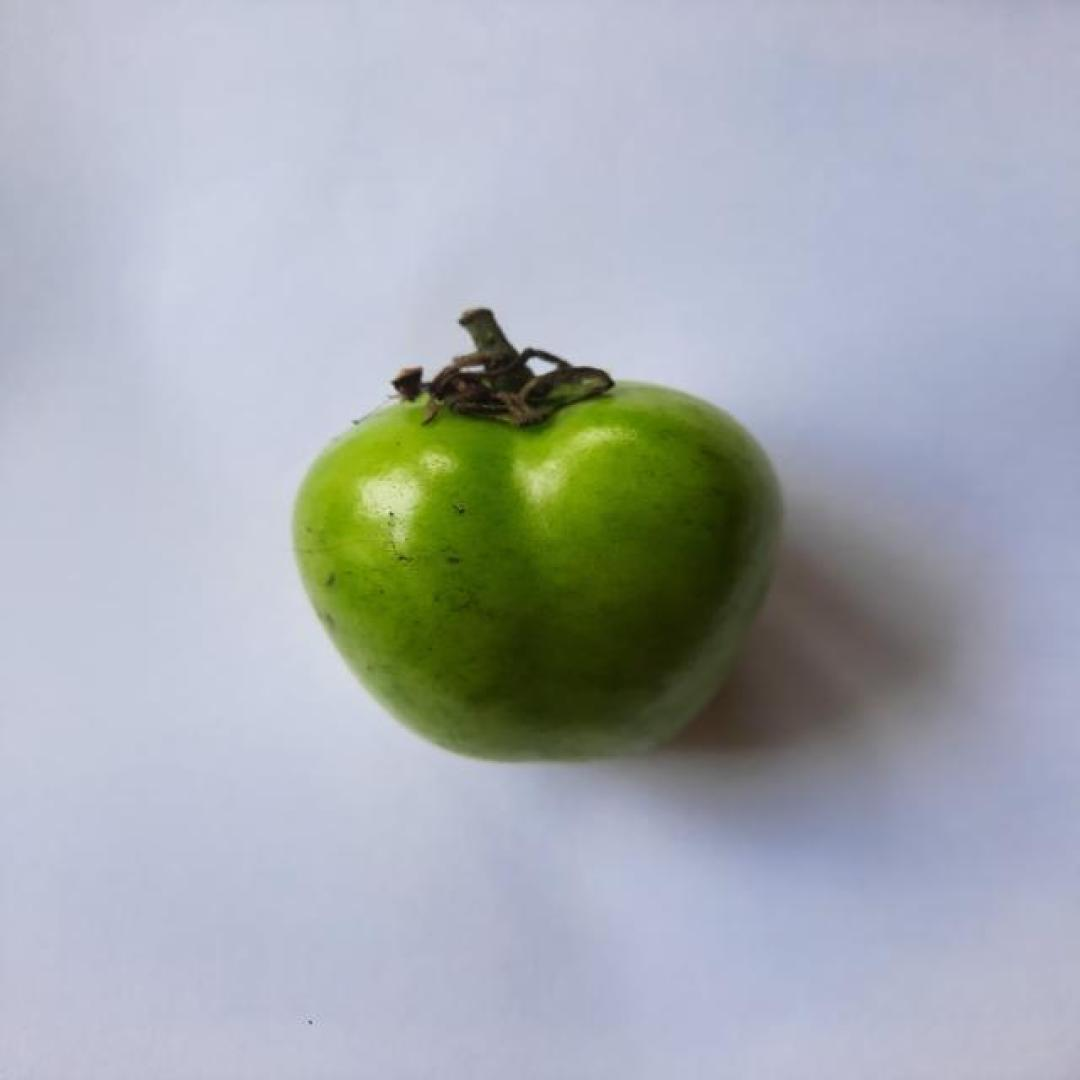mentah: (290, 305, 783, 763)
